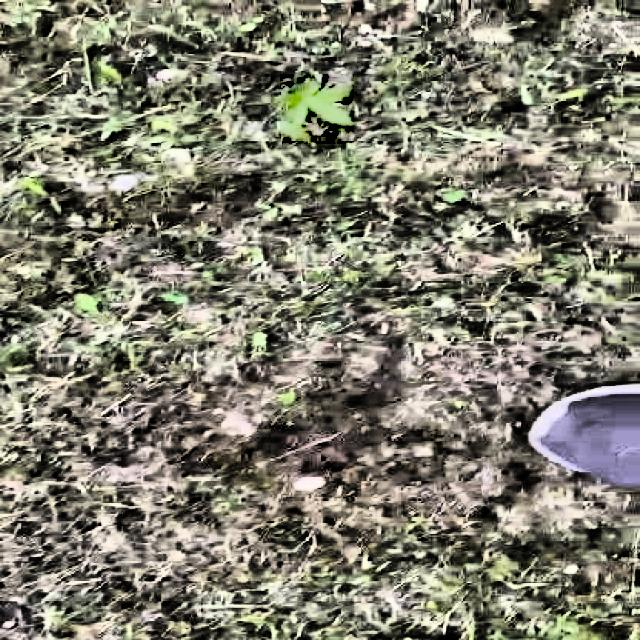Weeds: (280, 74, 354, 144)
